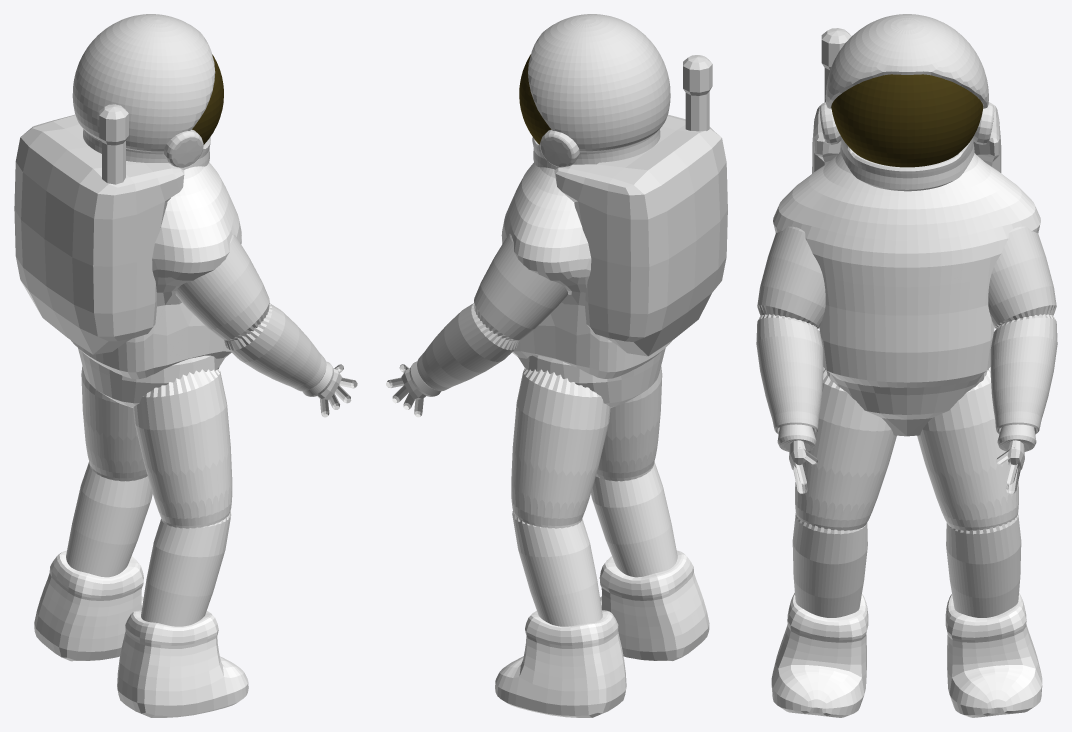
The model's file is astronaut.glb.
3 renders of one model, left to right at view 1: azimuth 30°, elevation 25°; view 2: azimuth 150°, elevation 25°; view 3: azimuth 270°, elevation 25°, orthographic. The views are drawn at different scales.
Parts seen in each view (by area): view 1: tanque, brazo.d.003, brazo.d.001, casco, torax, brazo.d.002, brazo.i, antebrazo.i, visera; view 2: tanque, brazo.d.003, casco, brazo.d.001, torax, brazo.d.002, brazo.i, antebrazo.i, visera; view 3: torax, brazo.d.001, brazo.d.003, antebrazo.i, casco, brazo.d.002, visera, brazo.i, tanque, palma.
Boxes of the visible parts, <box> form: tanque: <box>14,104,184,354</box>; brazo.d.003: <box>34,550,248,717</box>; brazo.d.001: <box>81,366,232,528</box>; casco: <box>72,14,215,170</box>; torax: <box>71,162,241,407</box>; brazo.d.002: <box>66,462,231,626</box>; brazo.i: <box>175,234,269,340</box>; antebrazo.i: <box>224,303,333,396</box>; visera: <box>192,54,223,144</box>; tanque: <box>554,55,727,356</box>; brazo.d.003: <box>495,550,709,717</box>; casco: <box>528,14,670,169</box>; brazo.d.001: <box>511,366,662,528</box>; torax: <box>501,162,672,407</box>; brazo.d.002: <box>512,462,677,626</box>; brazo.i: <box>474,234,567,340</box>; antebrazo.i: <box>409,303,519,396</box>; visera: <box>519,54,551,144</box>; torax: <box>773,152,1040,436</box>; brazo.d.001: <box>795,367,1018,530</box>; brazo.d.003: <box>771,592,1042,717</box>; antebrazo.i: <box>756,314,1057,451</box>; casco: <box>819,14,994,191</box>; brazo.d.002: <box>792,513,1021,617</box>; visera: <box>831,74,983,167</box>; brazo.i: <box>757,226,1056,328</box>; tanque: <box>812,28,1001,173</box>; palma: <box>789,440,1024,469</box>.
Size of the model in its own units: 7.31 by 17.41 by 6.96.
